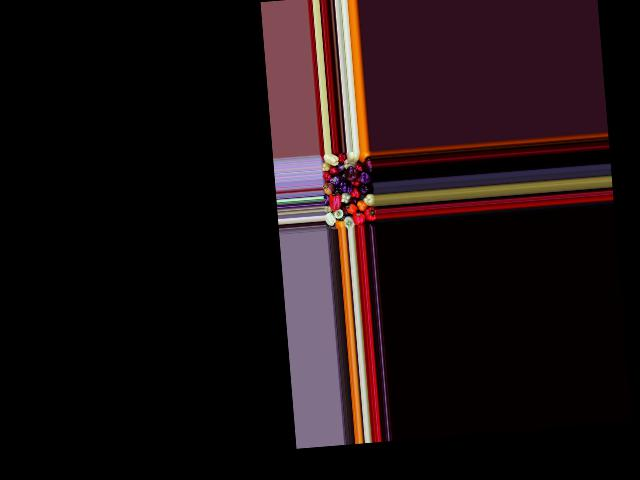bell_pepper: (344, 214, 354, 228)
